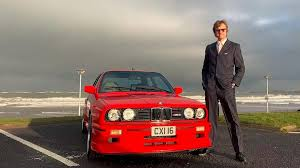car: (79, 71, 218, 157)
